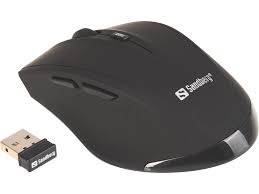mouse: (16, 18, 259, 167)
